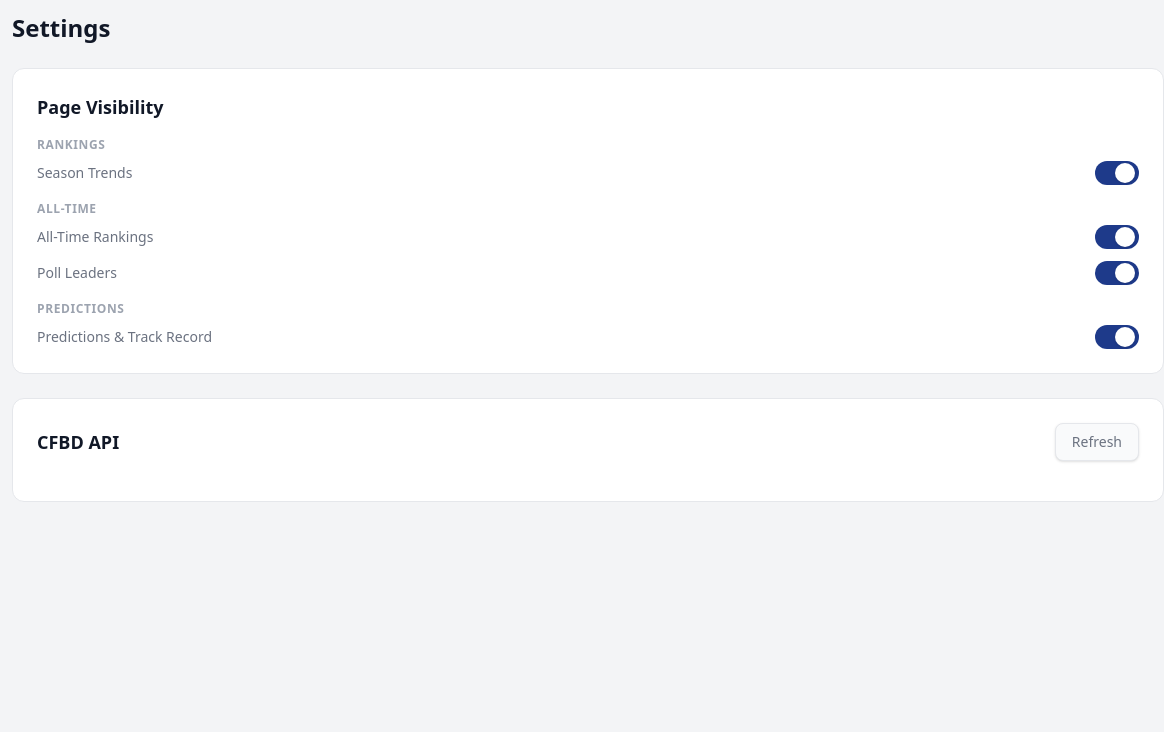
Test: SettingsPage › shows success feedback after visibility update
Click the switch named "All-Time Rankings" in the row of "All-Time Rankings" at (1117, 237), box [1095,225,1139,249]
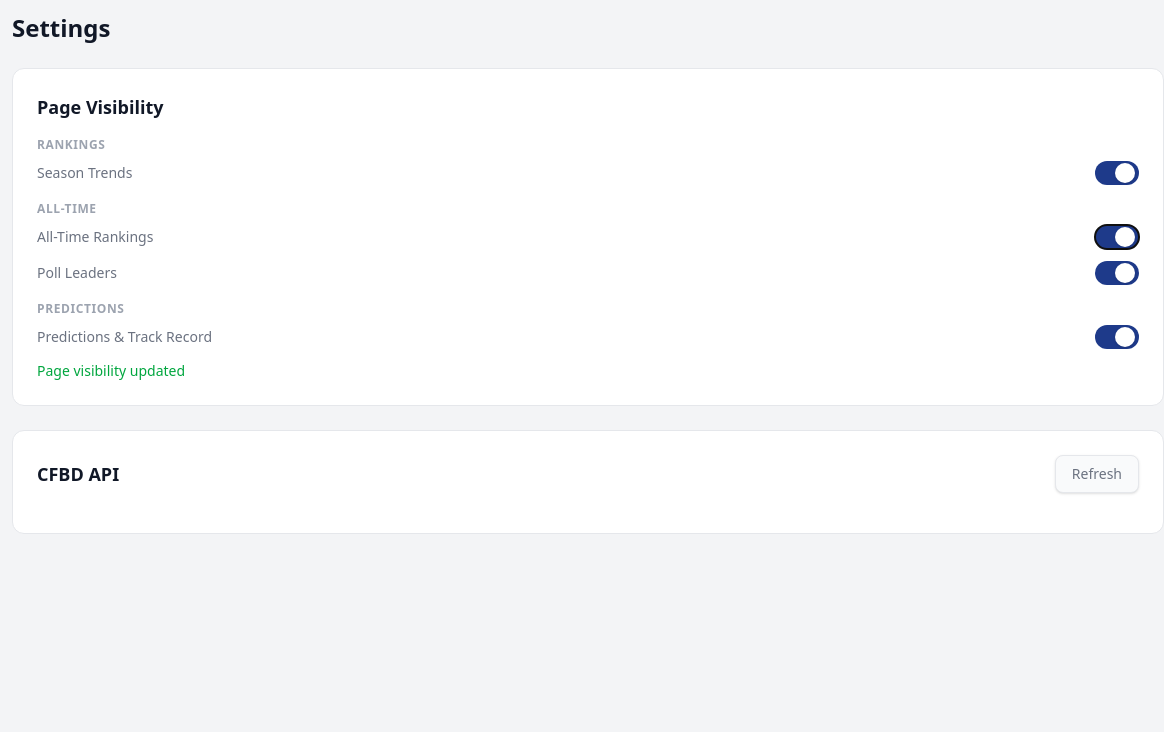
Expected: the text "Page visibility updated" is shown, [37,361,185,380]
